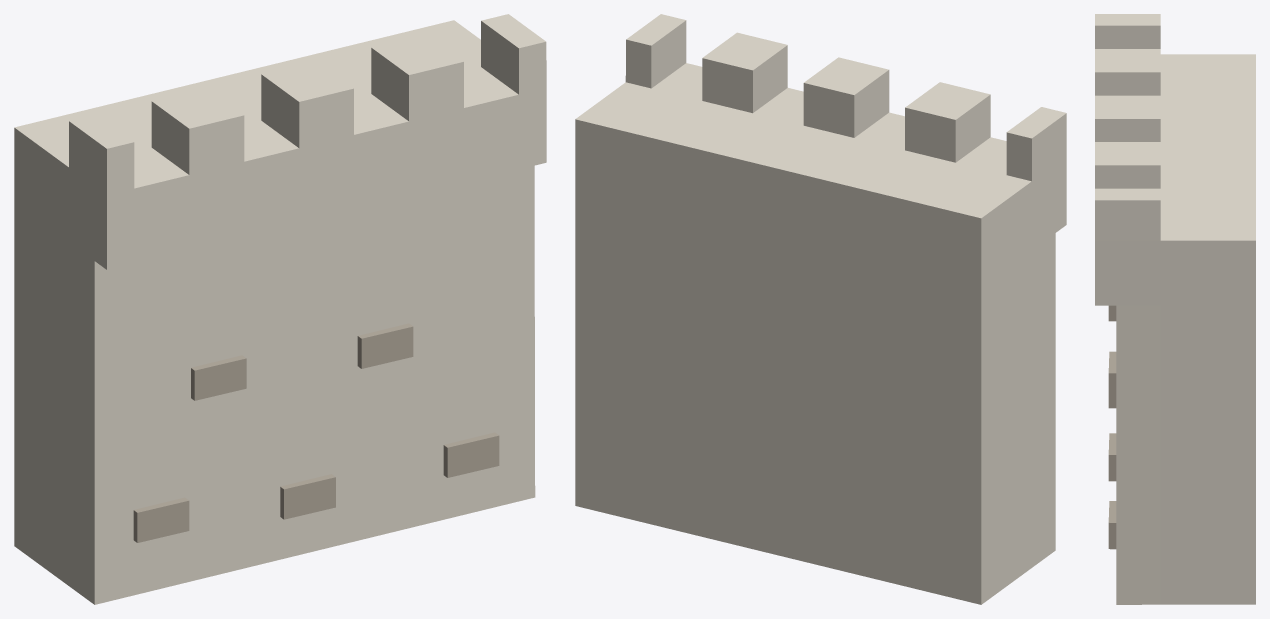
The model's file is wallbricks.glb.
The picture shows the model from 3 angles, left to right: view 1: azimuth 30°, elevation 25°; view 2: azimuth 150°, elevation 25°; view 3: azimuth 270°, elevation 25°; orthographic projection. The views are drawn at different scales.
Visible parts, largest first — view 1: WallBricks; view 2: WallBricks; view 3: WallBricks.
Boxes of the visible parts, left/top/right/bottom form: WallBricks: left=14, top=14, right=546, bottom=604; WallBricks: left=575, top=14, right=1066, bottom=604; WallBricks: left=1095, top=14, right=1255, bottom=604.
Bounding box in the file's own units: 1.54 × 1.55 × 0.5592.
